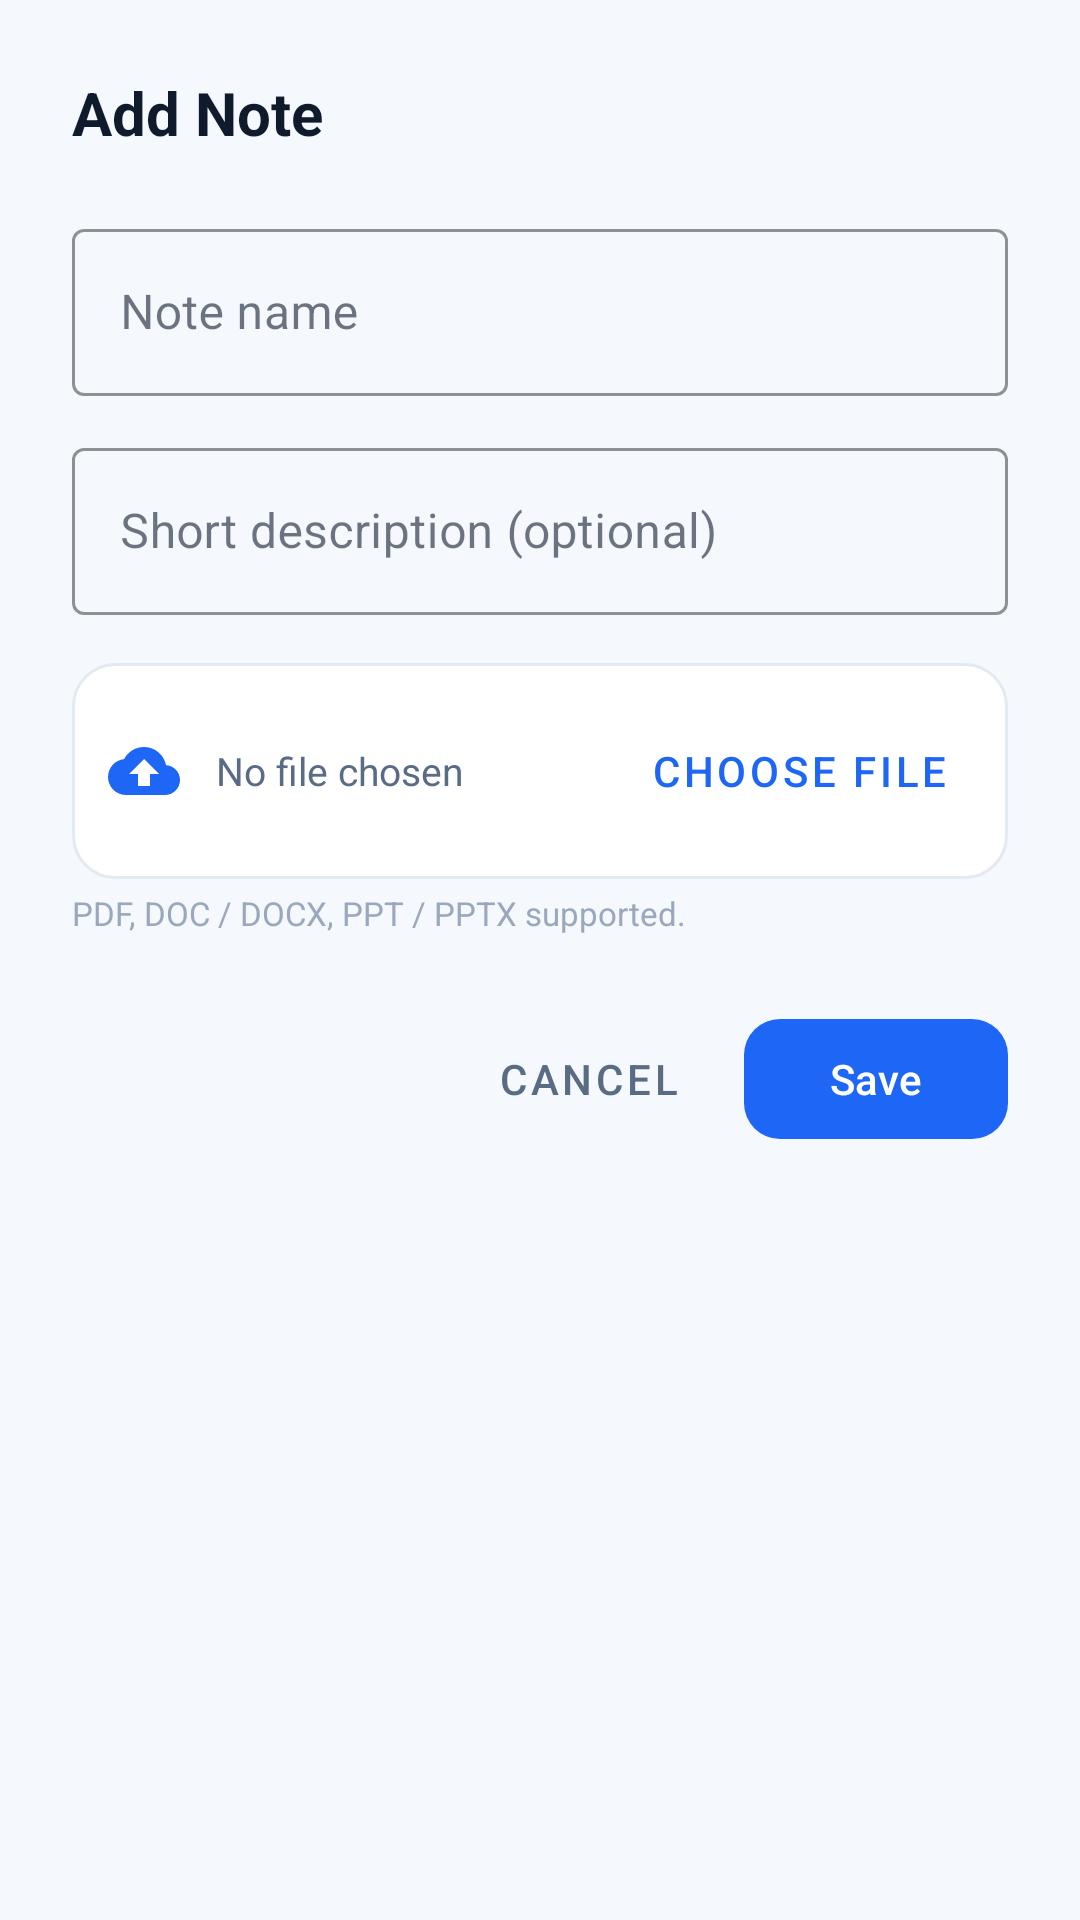

Icon click points for this 1080 × 1920 phone screenshot, format [x,y]:
cloud upload: [144,771]
